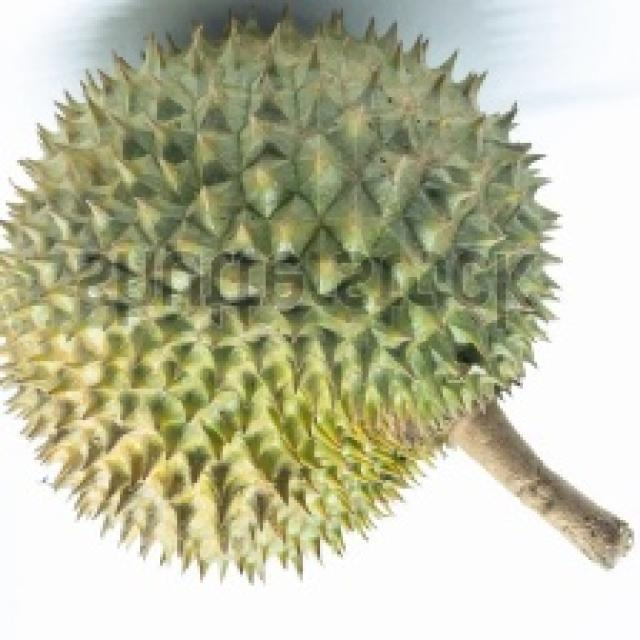d175: (4, 31, 594, 552)
